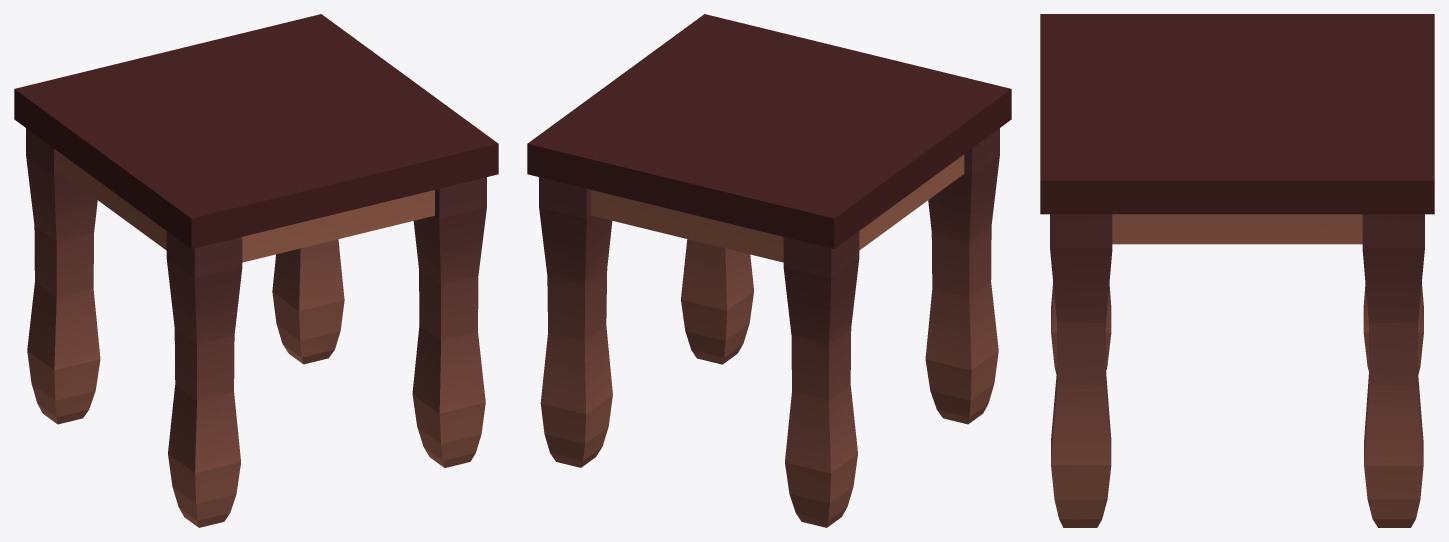
Rendered from Table_0.fbx.
3 renders of one model, left to right at view 1: azimuth 30°, elevation 25°; view 2: azimuth 150°, elevation 25°; view 3: azimuth 270°, elevation 25°, orthographic. The views are drawn at different scales.
Parts seen in each view (by area): view 1: Table_0; view 2: Table_0; view 3: Table_0.
Boxes of the visible parts, x1,y1,x2,y2 form: Table_0: (14,14,498,527); Table_0: (527,14,1011,527); Table_0: (1040,14,1434,527).
Size of the model in its own units: 75 by 75 by 75.
